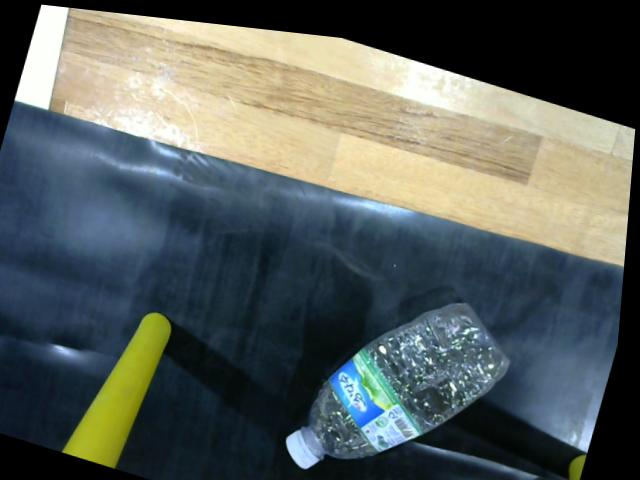bottle: (279, 278, 530, 472)
